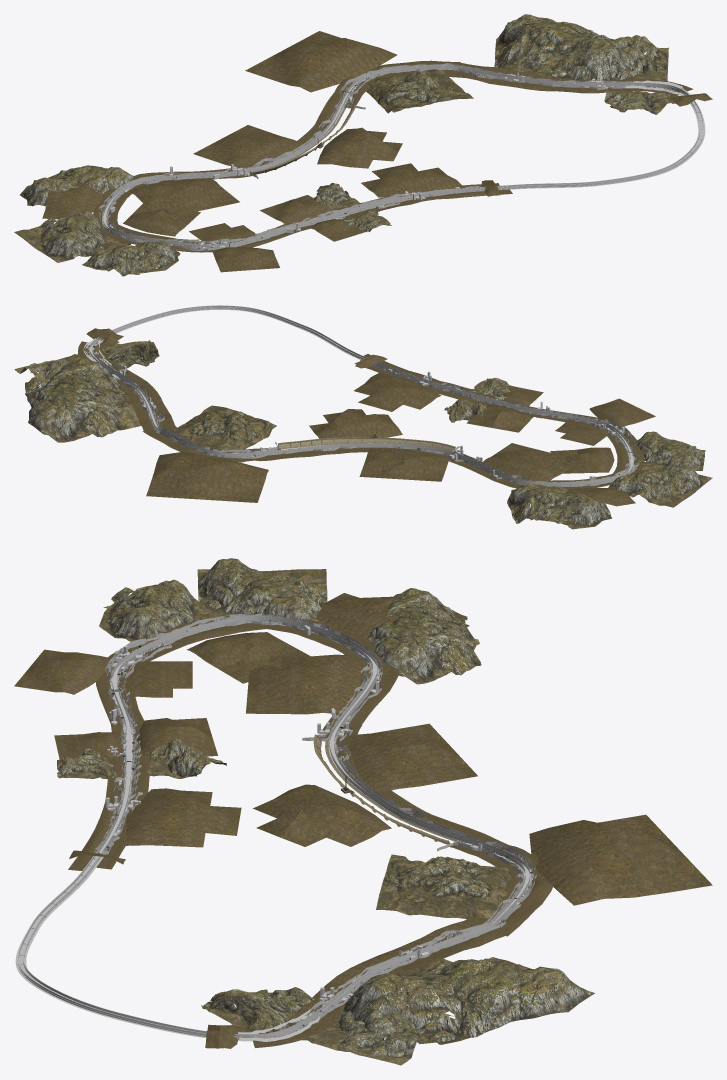
Rendered from Track 02.FBX.
The picture shows the model from 3 angles, top to bottom: view 1: azimuth 30°, elevation 25°; view 2: azimuth 150°, elevation 25°; view 3: azimuth 270°, elevation 25°; orthographic projection. The views are drawn at different scales.
Parts seen in each view (by area): view 1: Object014, Object007, Coloider, Object011, Object003, Object010, Object013, Object008, Object012, Object009, Object002, Object004 (+4 smaller); view 2: Object007, Object014, Object011, Coloider, Object012, Object004, Object010, Object013, Object003, Object009, Object002, Object006 (+4 smaller); view 3: Object014, Object011, Object007, Coloider, Object003, Object004, Object010, Object013, Object009, Object006, Object008, Object012 (+4 smaller).
Boxes of the visible parts, x1,y1,x2,y2 form: Object014: (245, 31, 425, 113); Object007: (475, 14, 614, 91); Coloider: (102, 65, 705, 248); Object011: (128, 132, 267, 219); Object003: (40, 210, 192, 276); Object010: (177, 199, 314, 272); Object013: (234, 125, 397, 172); Object008: (560, 35, 668, 104); Object012: (14, 191, 161, 251); Object009: (361, 163, 532, 209); Object002: (292, 183, 394, 241); Object004: (20, 165, 140, 206); Object007: (25, 366, 168, 442); Object014: (146, 416, 285, 502); Object011: (380, 443, 582, 488); Coloider: (89, 305, 634, 485); Object012: (573, 453, 696, 507); Object004: (507, 480, 611, 529); Object010: (492, 398, 655, 456); Object013: (330, 409, 443, 477); Object003: (577, 431, 712, 491); Object009: (346, 349, 463, 411); Object002: (442, 378, 543, 427); Object006: (141, 405, 250, 451); Object014: (385, 814, 712, 905); Object011: (231, 645, 465, 767); Object007: (337, 933, 594, 1041); Coloider: (15, 616, 533, 1038); Object003: (99, 558, 254, 668); Object004: (325, 588, 481, 684); Object010: (14, 642, 248, 739); Object013: (253, 743, 477, 837); Object009: (68, 782, 241, 885); Object006: (376, 860, 551, 943); Object008: (279, 973, 458, 1065); Object012: (233, 565, 393, 651).
Bounding box in the file's own units: 1374 × 67.4 × 817.
